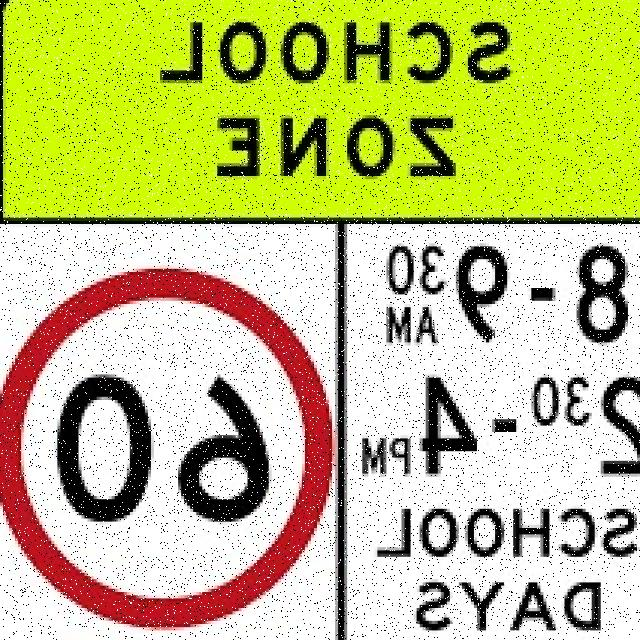speed_limit_60: (0, 262, 341, 624)
